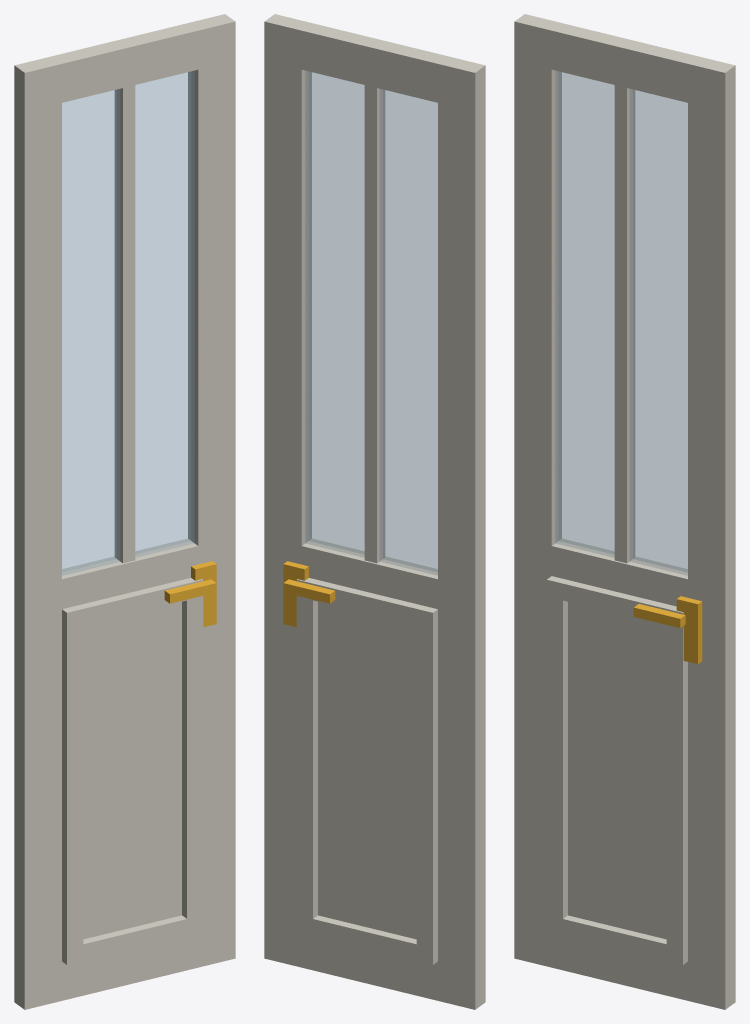
Rendered from SM_Door_ra_60x251.fbx.
3 views of the same model, side by side, from view 1: azimuth 30°, elevation 25°; view 2: azimuth 150°, elevation 25°; view 3: azimuth 330°, elevation 25° (orthographic).
Parts seen in each view (by area): view 1: SM_Door_ra_60x251; view 2: SM_Door_ra_60x251; view 3: SM_Door_ra_60x251.
Boxes of the visible parts, left/top/right/bottom form: SM_Door_ra_60x251: left=14, top=14, right=235, bottom=1009; SM_Door_ra_60x251: left=264, top=14, right=485, bottom=1009; SM_Door_ra_60x251: left=514, top=14, right=735, bottom=1009.
Bounding box in the file's own units: 0.588 × 2.5 × 0.175.
